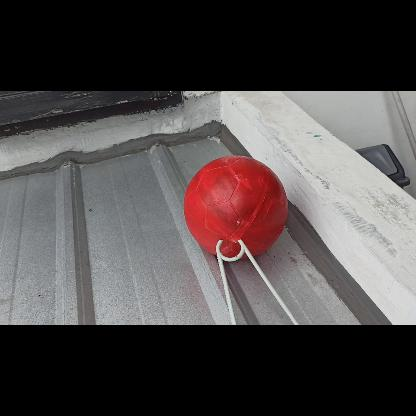red_ball: (183, 154, 287, 258)
